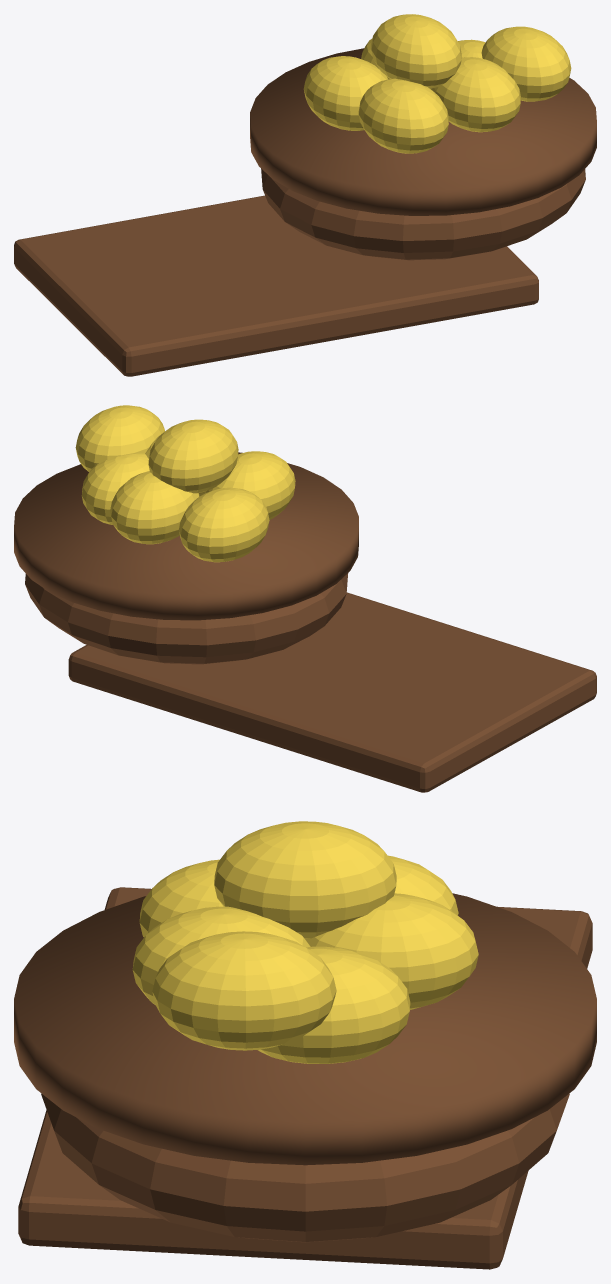
File: island_dressing.glb
The picture shows the model from 3 angles, top to bottom: view 1: azimuth 30°, elevation 25°; view 2: azimuth 150°, elevation 25°; view 3: azimuth 270°, elevation 25°; orthographic projection. The views are drawn at different scales.
Parts seen in each view (by area): view 1: kitchen_island_001_cutting_board, kitchen_island_004_bowl_rim, kitchen_island_003_bowl_body, kitchen_island_008_lemon_4, kitchen_island_010_lemon_6, kitchen_island_009_lemon_5, kitchen_island_011_lemon_7, kitchen_island_005_lemon_1; view 2: kitchen_island_001_cutting_board, kitchen_island_004_bowl_rim, kitchen_island_003_bowl_body, kitchen_island_005_lemon_1, kitchen_island_010_lemon_6, kitchen_island_006_lemon_2, kitchen_island_011_lemon_7, kitchen_island_008_lemon_4, kitchen_island_007_lemon_3; view 3: kitchen_island_004_bowl_rim, kitchen_island_003_bowl_body, kitchen_island_001_cutting_board, kitchen_island_011_lemon_7, kitchen_island_010_lemon_6, kitchen_island_006_lemon_2, kitchen_island_007_lemon_3, kitchen_island_009_lemon_5, kitchen_island_008_lemon_4, kitchen_island_005_lemon_1.
Boxes of the visible parts, left/top/right/bottom form: kitchen_island_001_cutting_board: left=14, top=195, right=538, bottom=376; kitchen_island_004_bowl_rim: left=250, top=48, right=596, bottom=215; kitchen_island_003_bowl_body: left=261, top=168, right=585, bottom=260; kitchen_island_008_lemon_4: left=358, top=78, right=448, bottom=153; kitchen_island_010_lemon_6: left=371, top=14, right=461, bottom=88; kitchen_island_009_lemon_5: left=431, top=57, right=520, bottom=132; kitchen_island_011_lemon_7: left=481, top=26, right=571, bottom=101; kitchen_island_005_lemon_1: left=303, top=56, right=388, bottom=130; kitchen_island_001_cutting_board: left=68, top=592, right=596, bottom=792; kitchen_island_004_bowl_rim: left=14, top=452, right=358, bottom=620; kitchen_island_003_bowl_body: left=25, top=573, right=348, bottom=664; kitchen_island_005_lemon_1: left=179, top=487, right=269, bottom=562; kitchen_island_010_lemon_6: left=148, top=419, right=238, bottom=493; kitchen_island_006_lemon_2: left=110, top=471, right=199, bottom=544; kitchen_island_011_lemon_7: left=75, top=405, right=164, bottom=471; kitchen_island_008_lemon_4: left=205, top=451, right=295, bottom=519; kitchen_island_007_lemon_3: left=81, top=453, right=149, bottom=524; kitchen_island_004_bowl_rim: left=14, top=893, right=596, bottom=1165; kitchen_island_003_bowl_body: left=41, top=1093, right=569, bottom=1242; kitchen_island_001_cutting_board: left=18, top=887, right=592, bottom=1269; kitchen_island_011_lemon_7: left=152, top=931, right=336, bottom=1050; kitchen_island_010_lemon_6: left=214, top=821, right=396, bottom=938; kitchen_island_006_lemon_2: left=305, top=893, right=478, bottom=1009; kitchen_island_007_lemon_3: left=258, top=946, right=410, bottom=1063; kitchen_island_009_lemon_5: left=132, top=906, right=310, bottom=1004; kitchen_island_008_lemon_4: left=139, top=859, right=223, bottom=936; kitchen_island_005_lemon_1: left=388, top=855, right=458, bottom=915.
Size of the model in its own units: 0.7238 by 0.316 by 0.43.
